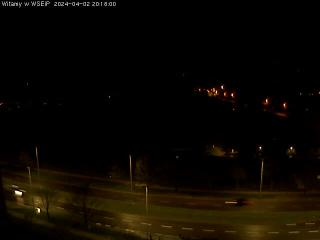car: (3, 183, 26, 199), (224, 196, 254, 208)
